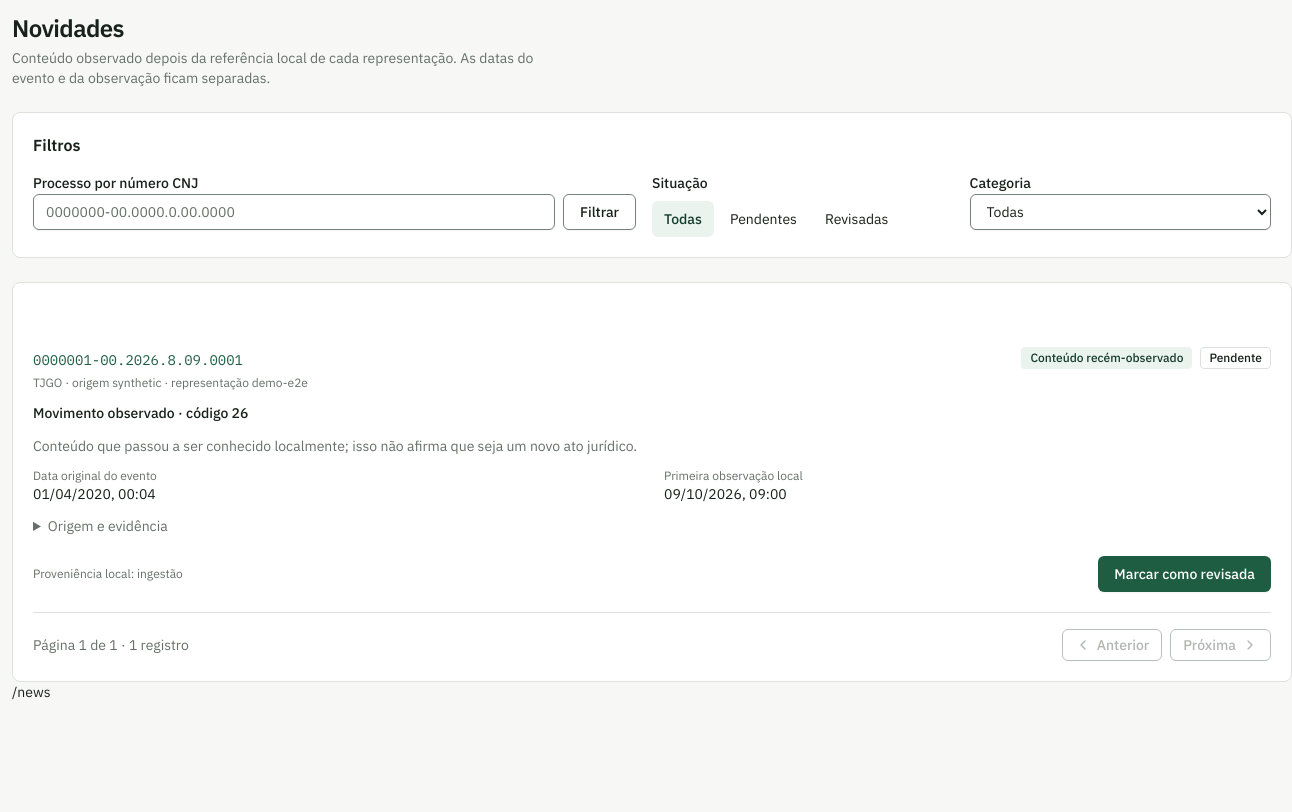
NewsPage › shows both dates and lets the operator review and reopen a novelty
Expected: the element named "Lista de novidades" is shown, [33, 327, 1271, 613]
Expected: the text "Conteúdo recém-observado" is shown, [1021, 347, 1192, 369]
Click the button "Marcar como revisada" at (1185, 574), box [1098, 556, 1271, 592]
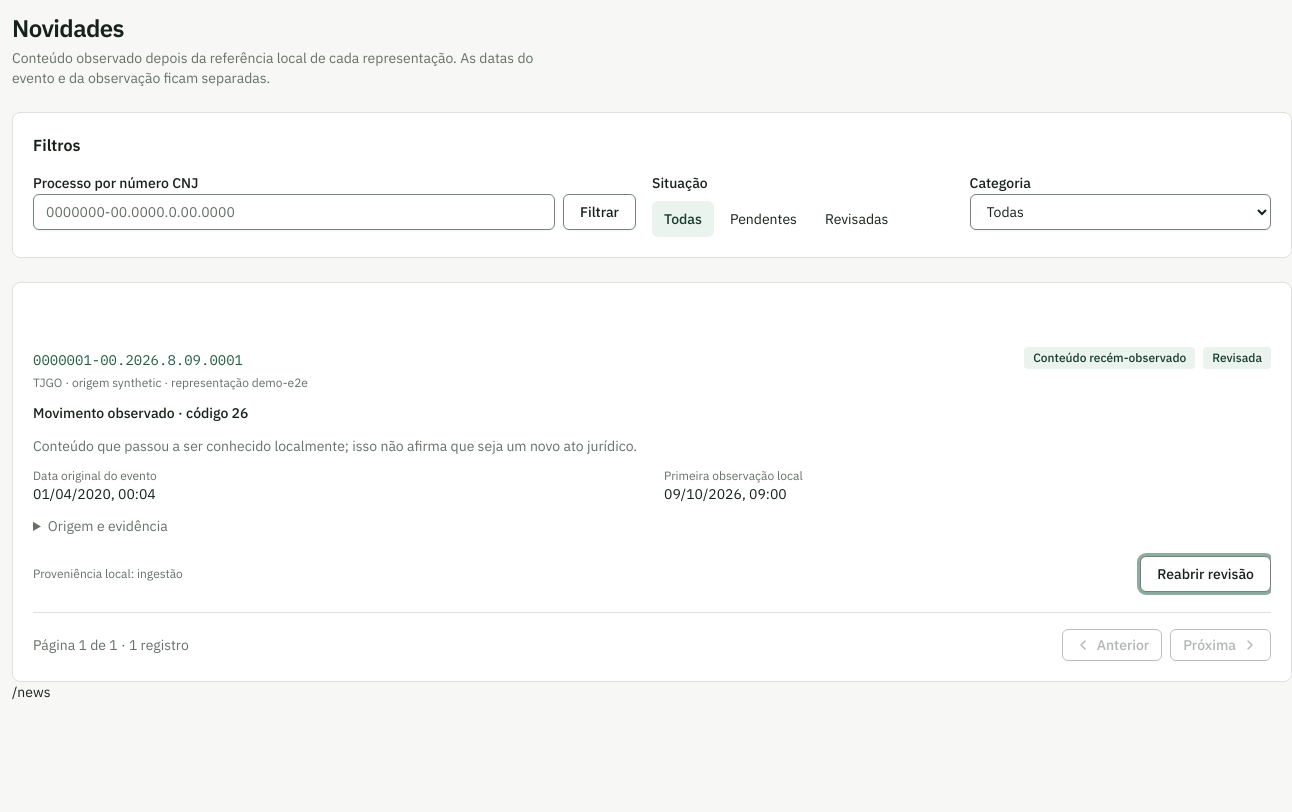
Now the text "Revisada" is shown, box [1203, 347, 1271, 369]
Click the button "Reabrir revisão" at (1206, 574), box [1140, 556, 1271, 592]
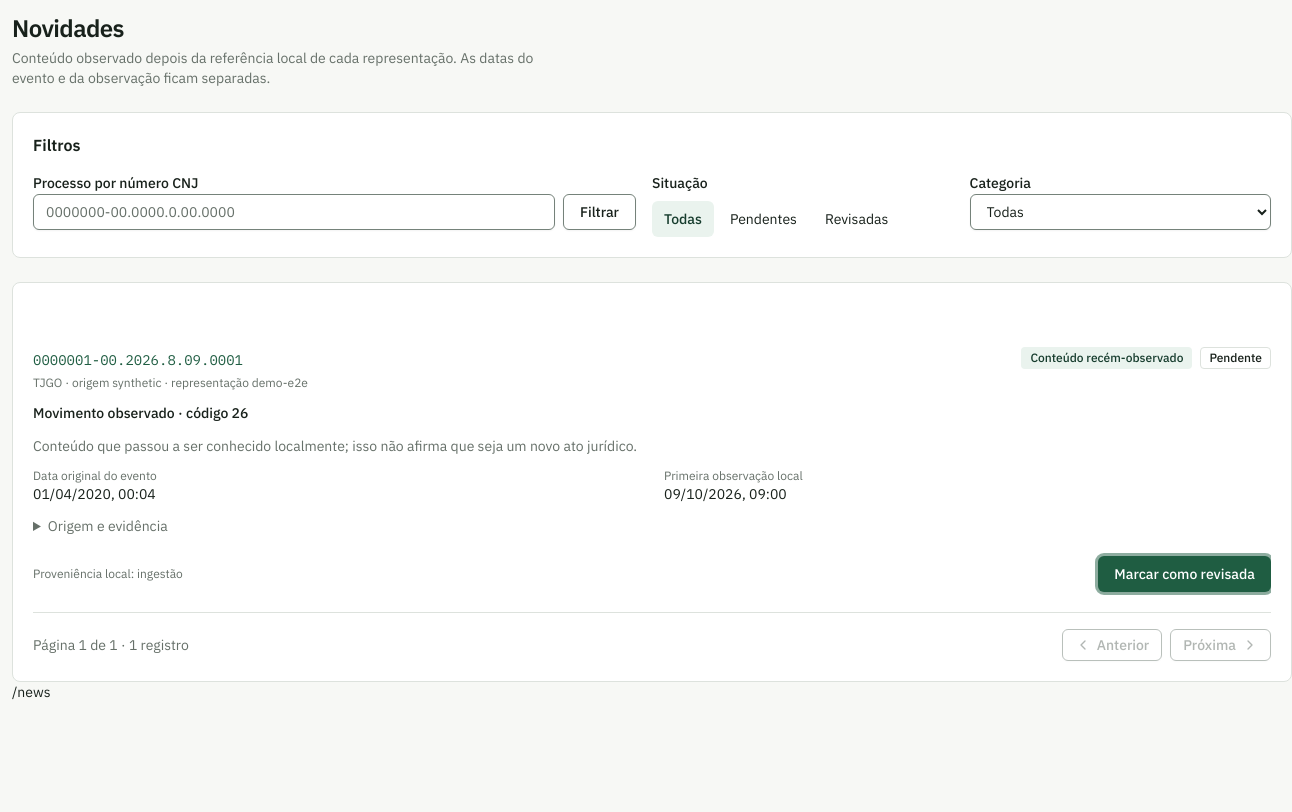
Now the text "Pendente" is shown, box [1200, 347, 1271, 369]
